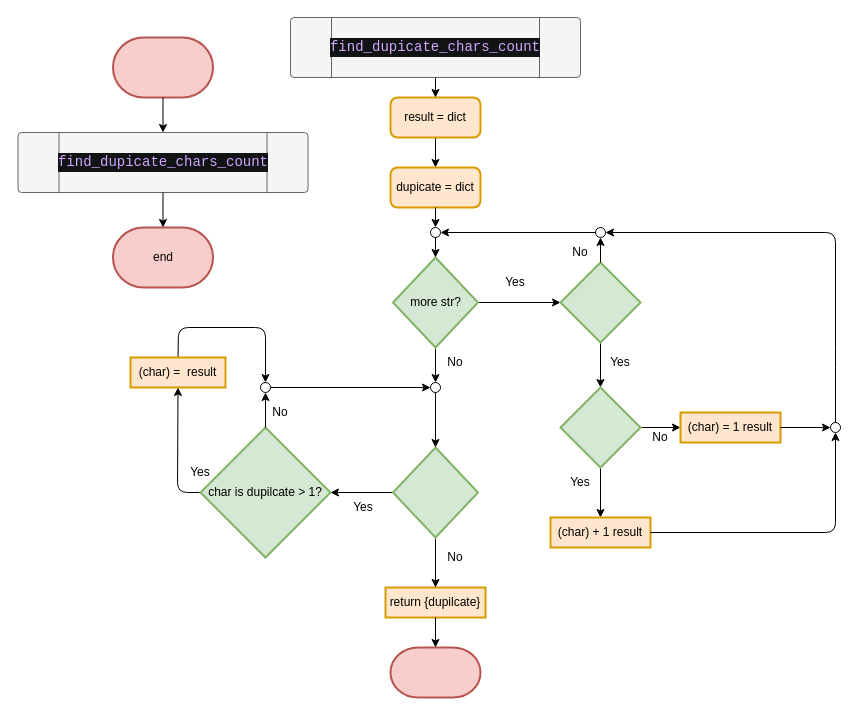
Some shapes in this 861 by 716 pixel diagram are drawn without their labels. The shapes that lost their labels are listed below. From the top down, each one's centre as x and y in pixels, then its label:
(163,67): start
(600,302): is lower?
(600,427): char Duplicate?
(435,492): {result} more dict?
(435,672): stop
